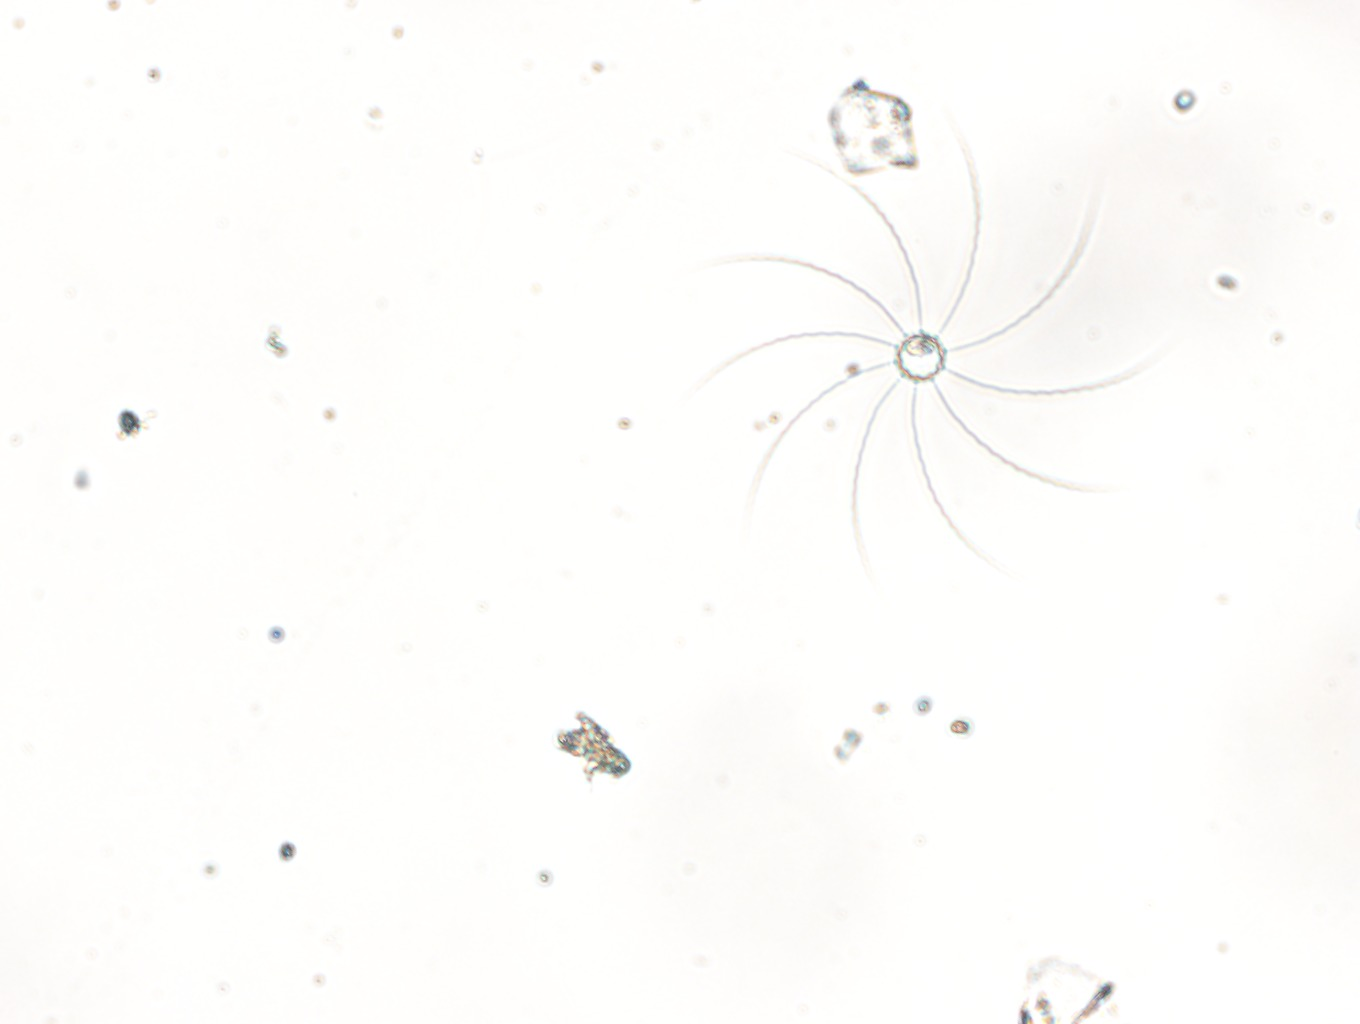bacteriastrum: (686, 127, 1169, 581)
